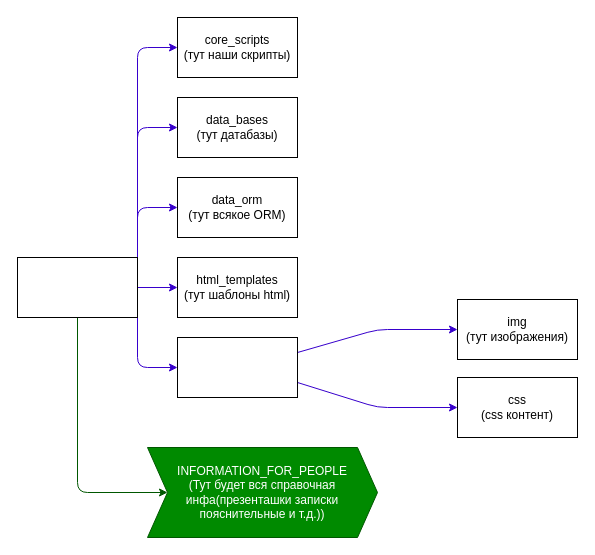
Image size: 595x555. Some labels were removed from this diagram. Each missing label, with the box of its shape:
FILE_SENIOR (Главная папка): (16, 256, 138, 318)
static_content (статичный контент): (176, 336, 298, 398)
